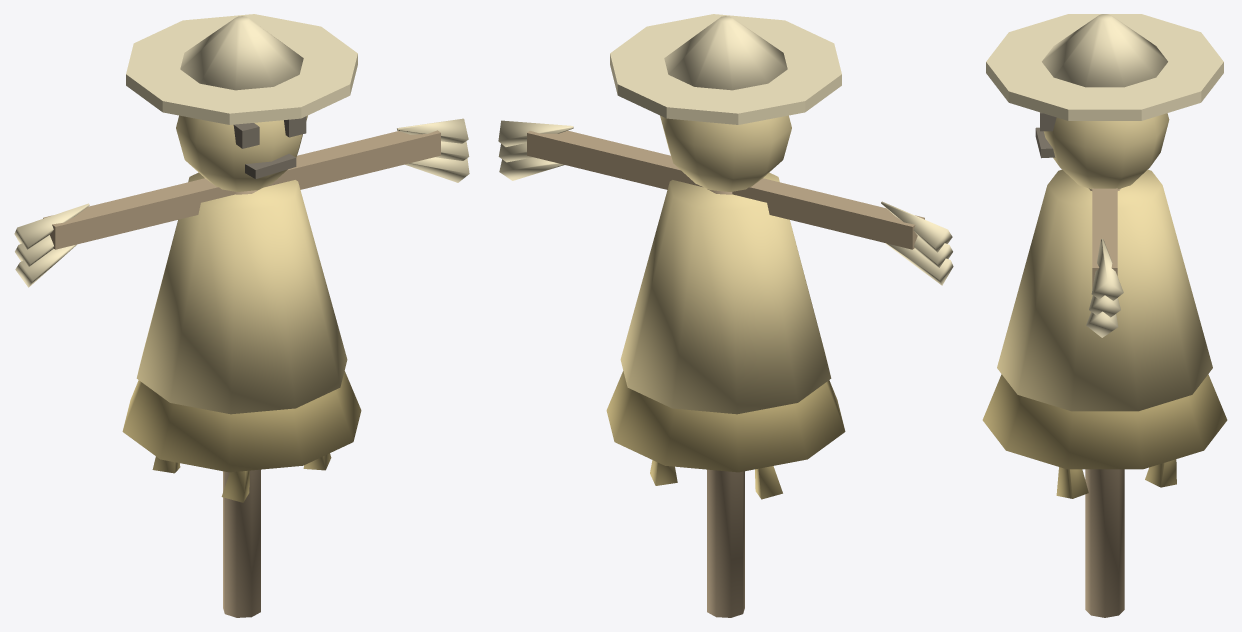
The model's file is scarecrow.fbx.
3 renders of one model, left to right at view 1: azimuth 30°, elevation 25°; view 2: azimuth 150°, elevation 25°; view 3: azimuth 270°, elevation 25°, orthographic.
Visible parts, largest first — view 1: EN_scarecrow; view 2: EN_scarecrow; view 3: EN_scarecrow.
Boxes of the visible parts, x1,y1,x2,y2 form: EN_scarecrow: (14,14,469,617); EN_scarecrow: (498,14,953,617); EN_scarecrow: (982,14,1227,617).
Size of the model in its own units: 144 by 182 by 68.
